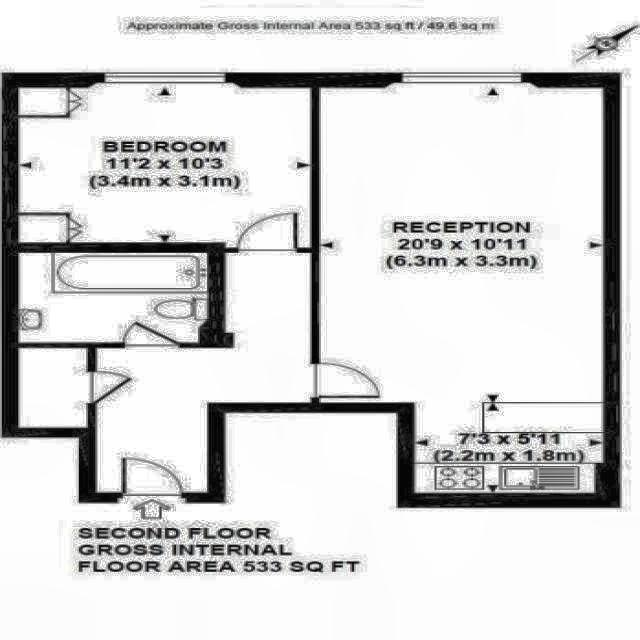room: (319, 83, 603, 493), (95, 250, 312, 495), (17, 83, 312, 248), (18, 253, 208, 342), (19, 348, 88, 427)
